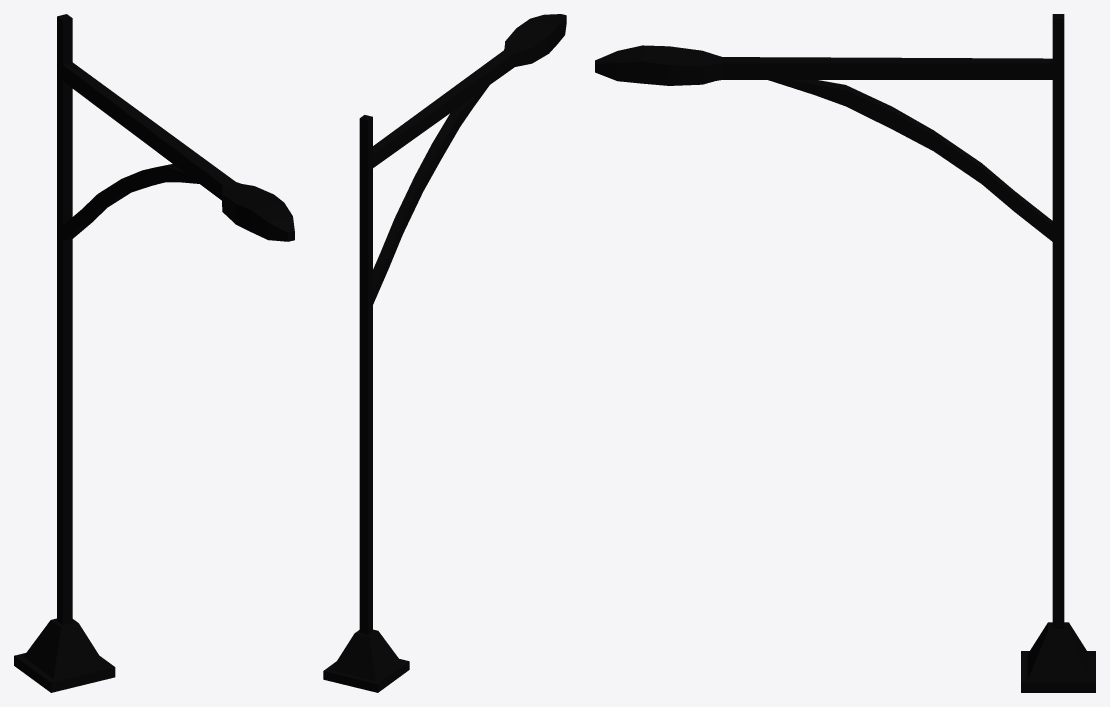
The model's file is road light.FBX.
3 views of the same model, side by side, from view 1: azimuth 30°, elevation 25°; view 2: azimuth 150°, elevation 25°; view 3: azimuth 270°, elevation 25° (orthographic). The views are drawn at different scales.
Visible parts, largest first — view 1: Box001; view 2: Box001; view 3: Box001.
Part boxes in pixels (x1=…): Box001: x1=14, y1=14, x2=294, y2=692; Box001: x1=323, y1=14, x2=566, y2=692; Box001: x1=595, y1=14, x2=1095, y2=692.
Bounding box in the file's own units: 20 × 195 × 134.
